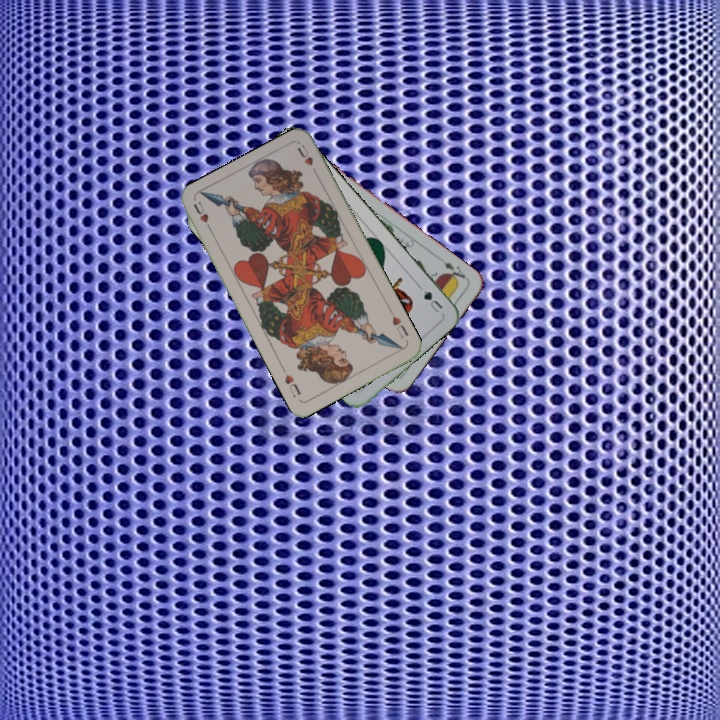EA: (439, 258, 468, 284)
GU: (419, 286, 446, 315)
HU: (189, 197, 215, 235), (388, 312, 411, 341)
